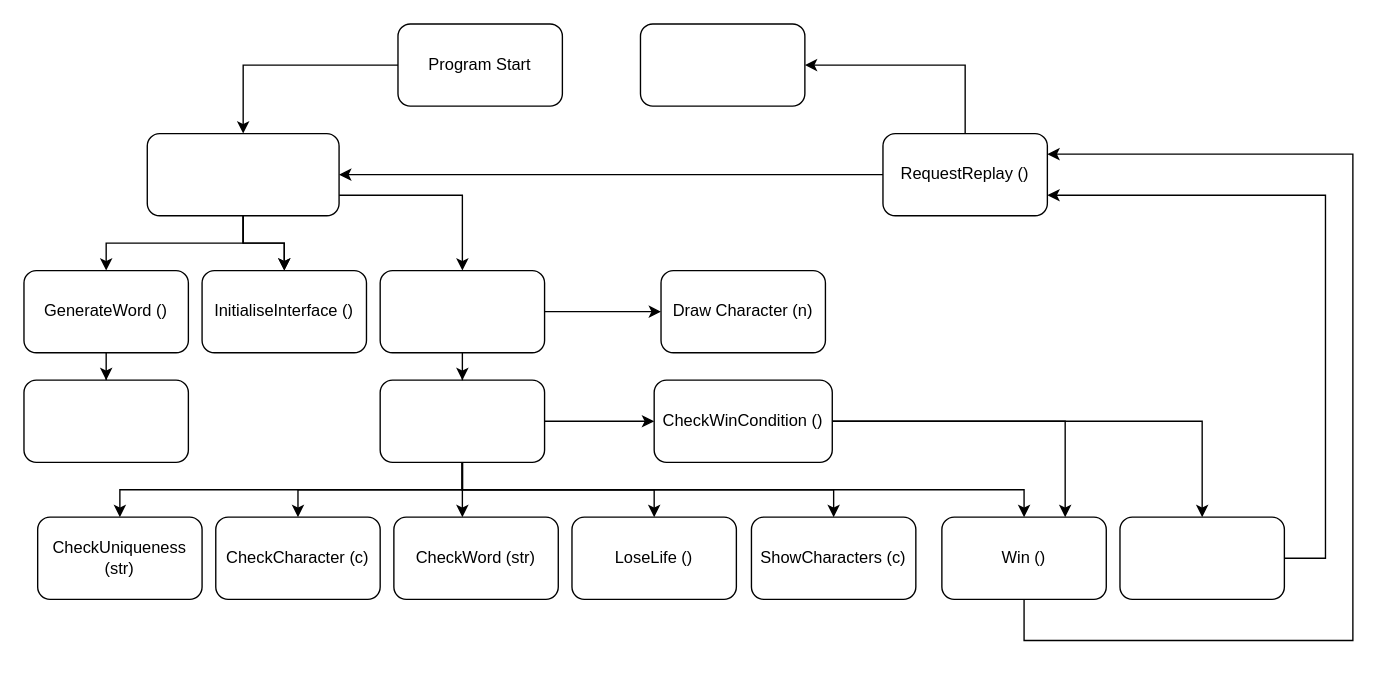
Image size: 1388x675. Some labels were removed from this diagram. The centre of each missing label's shape, as x and y in pixels:
Guess (str): the point at 462,420
Lose (): the point at 1201,557
PlayLoop (): the point at 462,311
Program End: the point at 722,64
ReadWordlist (): the point at 105,420
RequestParameters (): the point at 242,174
